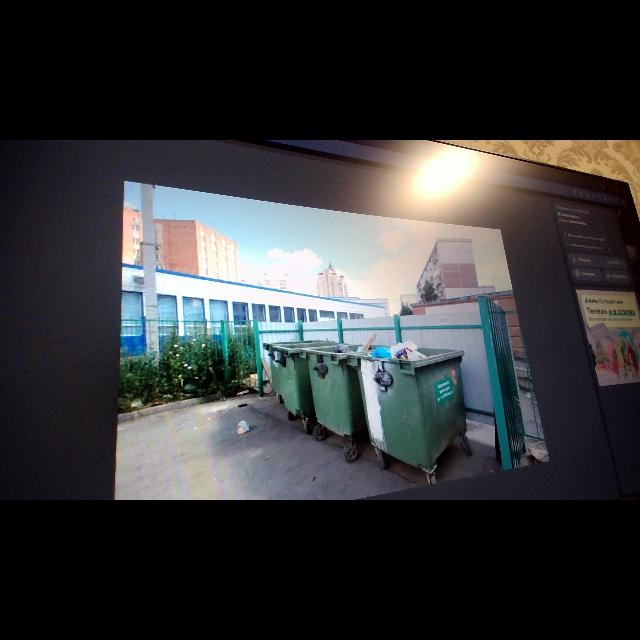Trash_Can_Empty: (274, 341, 349, 418)
Trash_Can_Full: (347, 340, 467, 473), (300, 333, 375, 436)
